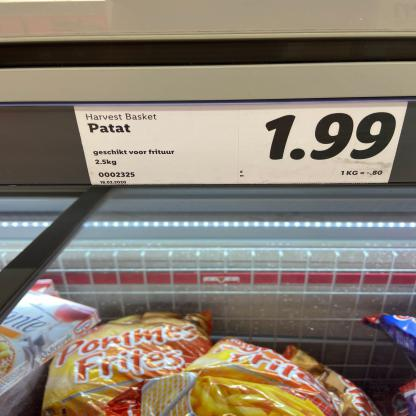prtg: (74, 101, 409, 186)
